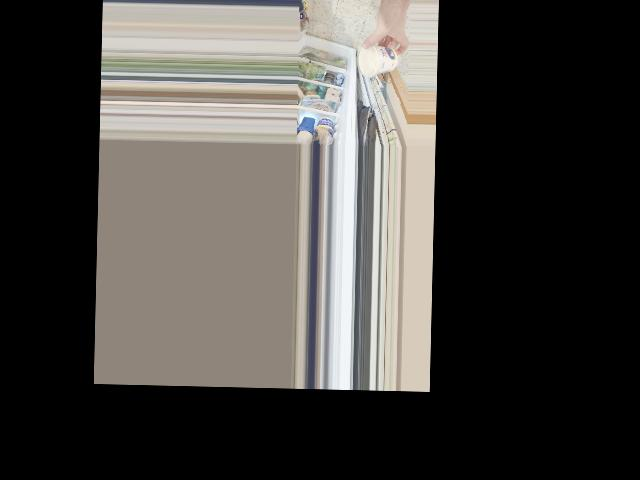cotage: (358, 42, 401, 76)
